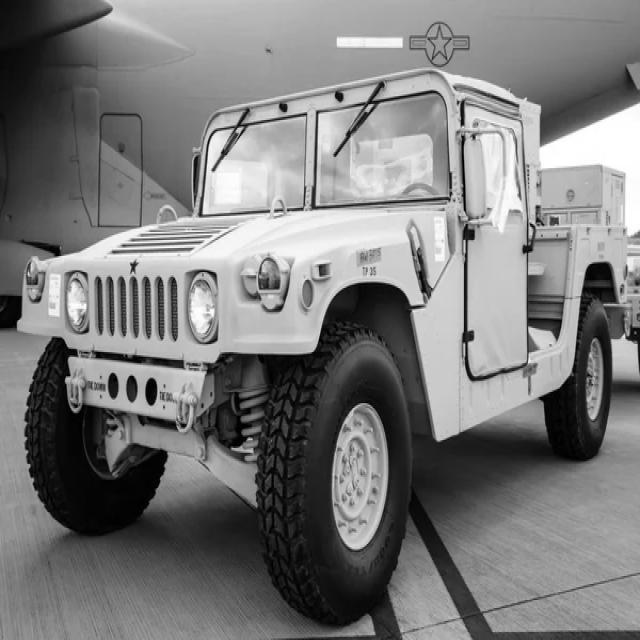Car: (18, 69, 632, 625)
